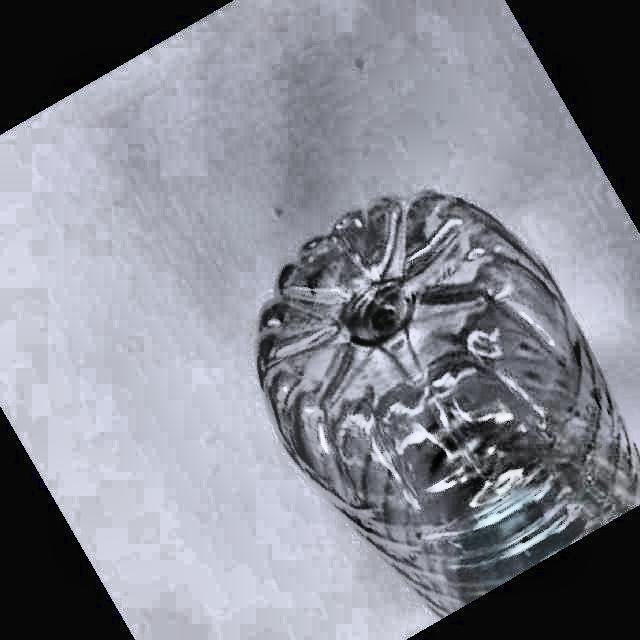plastic: (258, 192, 640, 614)
